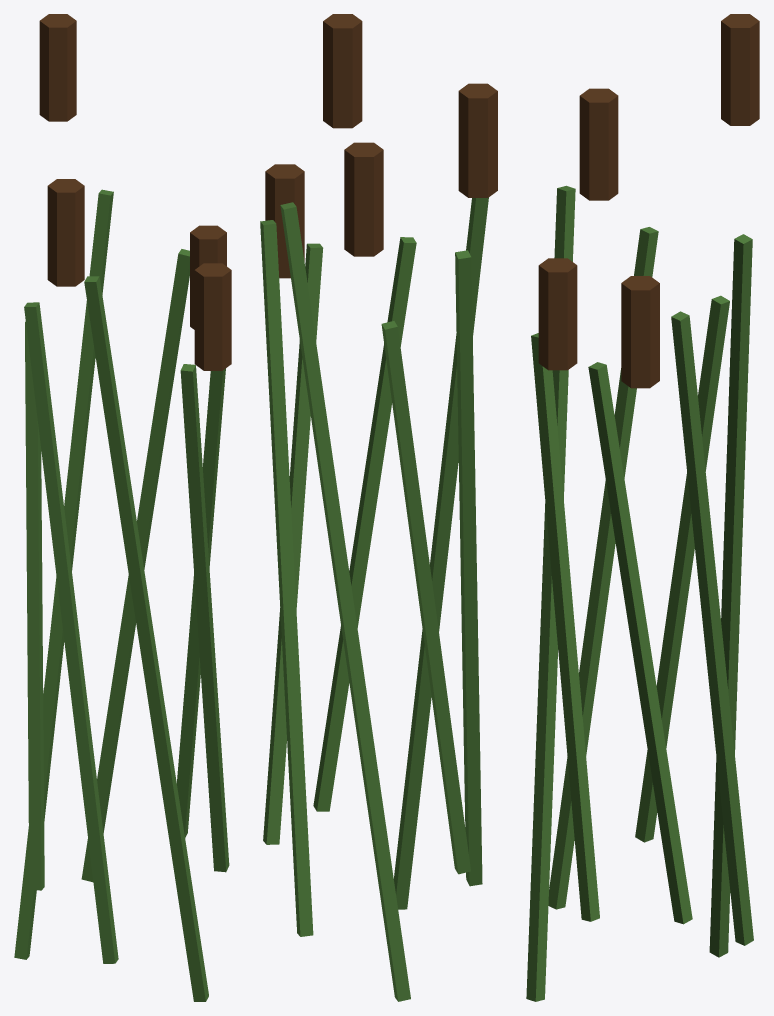
The model's file is PR_Nature_Saz.fbx.
The picture shows the model from 3 angles, left to right: view 1: azimuth 30°, elevation 25°; view 2: azimuth 150°, elevation 25°; view 3: azimuth 270°, elevation 25°; orthographic projection. The views are drawn at different scales.
Visible parts, largest first — view 1: PR_Nature_Saz; view 2: PR_Nature_Saz; view 3: PR_Nature_Saz.
Boxes of the visible parts, box(x1,y1,x2,y2) form: PR_Nature_Saz: box(14, 14, 231, 1001); PR_Nature_Saz: box(260, 14, 497, 1001); PR_Nature_Saz: box(526, 14, 759, 1001).
Size of the model in its own units: 0.302 by 1.37 by 0.3019.
